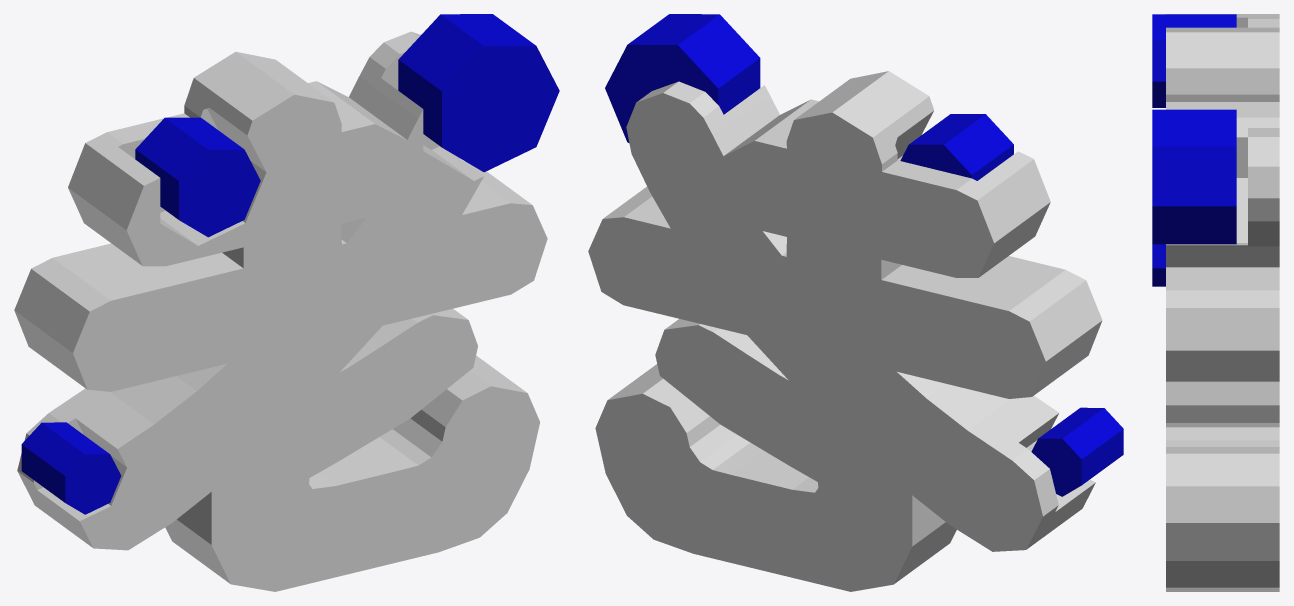
File: Ch_Lite_China_老_01.fbx
3 renders of one model, left to right at view 1: azimuth 30°, elevation 25°; view 2: azimuth 150°, elevation 25°; view 3: azimuth 270°, elevation 25°, orthographic. The views are drawn at different scales.
Parts seen in each view (by area): view 1: sphere1; view 2: sphere1; view 3: sphere1.
Part boxes in pixels (box(x1,y1,x2,y2)): sphere1: box(14, 14, 559, 591); sphere1: box(588, 14, 1123, 591); sphere1: box(1152, 14, 1279, 591).
Bounding box in the file's own units: 0.9726 × 0.9435 × 0.2242.
